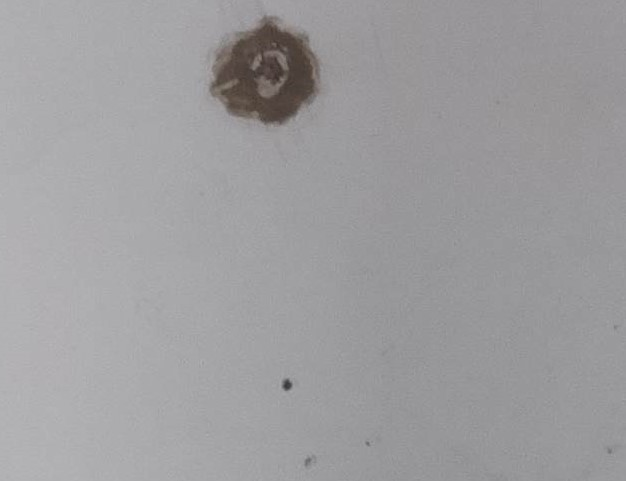grey spot: (210, 12, 320, 125), (282, 378, 293, 391)
